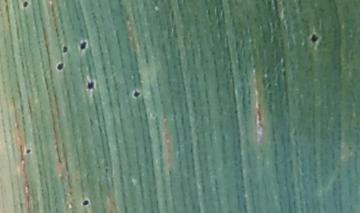tarspot: (77, 39, 89, 52), (84, 79, 96, 92), (308, 32, 320, 44), (131, 88, 142, 99), (23, 146, 34, 156), (55, 61, 64, 73), (81, 197, 90, 208), (61, 44, 69, 54), (21, 1, 30, 9)
